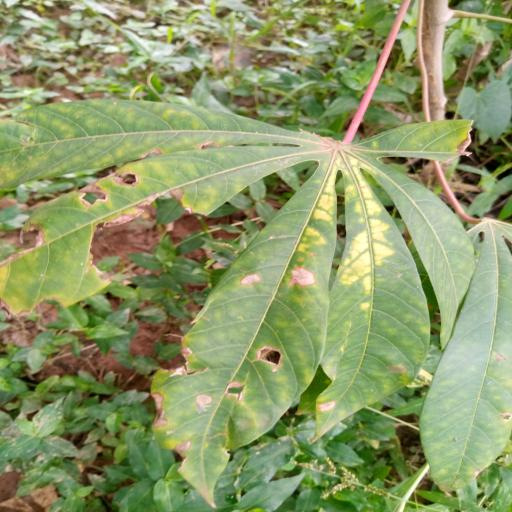Cassava_Mosaic: (0, 94, 506, 512)
